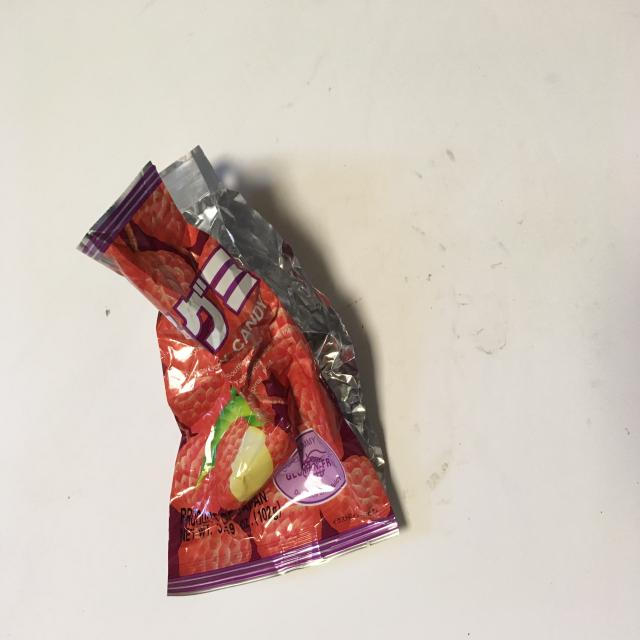plastic: (77, 144, 400, 596)
